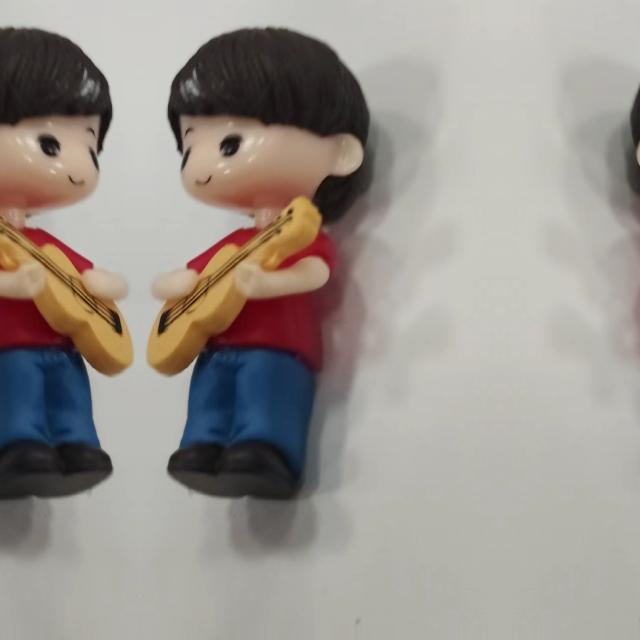man cloth: (182, 221, 350, 357), (0, 221, 97, 357)
man head: (161, 16, 373, 214), (0, 16, 119, 214), (627, 16, 640, 214)
trousers: (167, 348, 315, 498), (0, 348, 113, 498)
